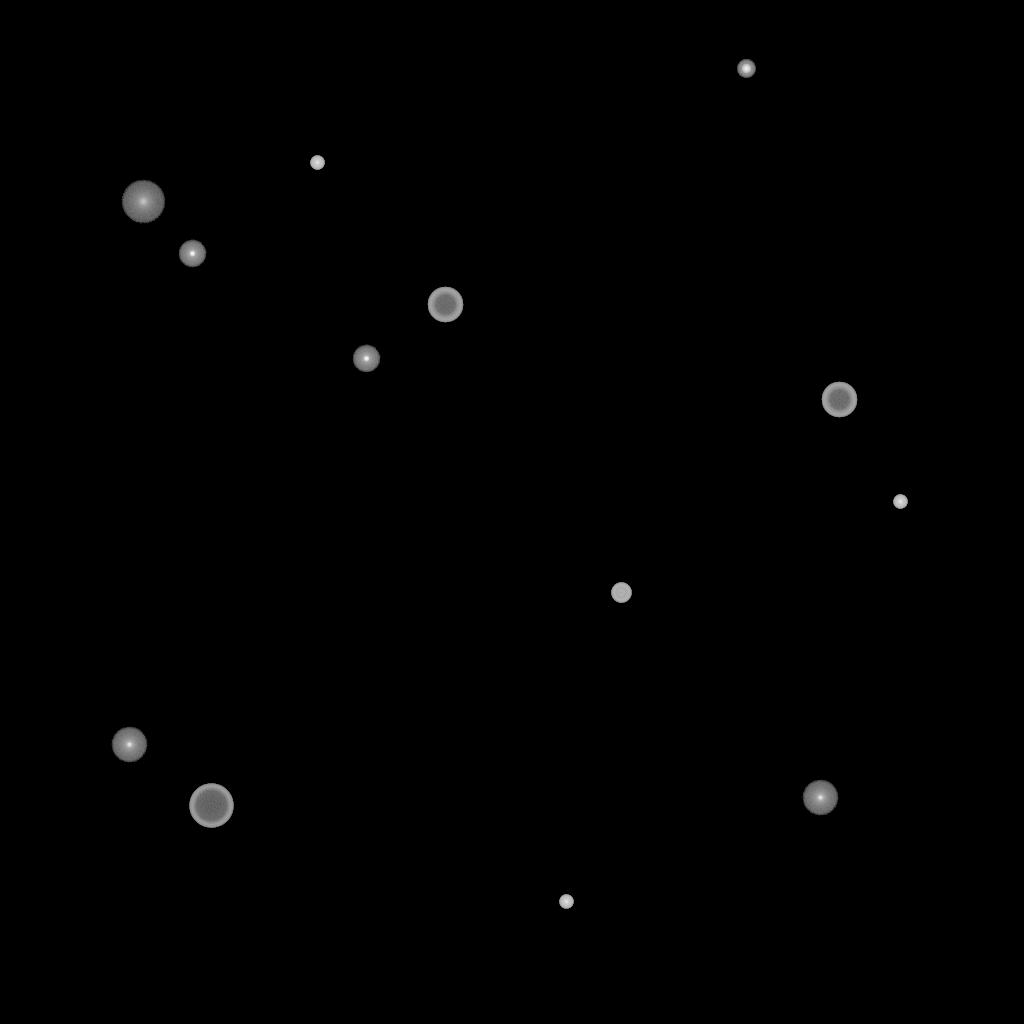depth:-10: (178, 240, 206, 268), (352, 345, 380, 373)
depth:-20: (737, 60, 755, 78)
depth:-30: (310, 156, 324, 170), (893, 495, 907, 509), (559, 895, 573, 909)
depth:-40: (611, 583, 631, 603)
depth:-60: (821, 382, 857, 418), (427, 287, 463, 323)
depth:-70: (189, 784, 233, 828)
depth:0: (111, 727, 147, 763), (802, 780, 838, 816)
depth:10: (121, 180, 165, 224)
